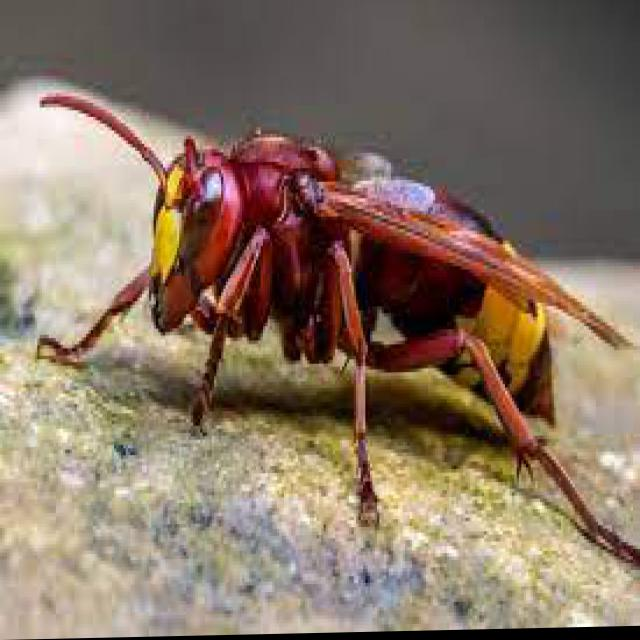Vespa Orientalis: (18, 10, 638, 612)
